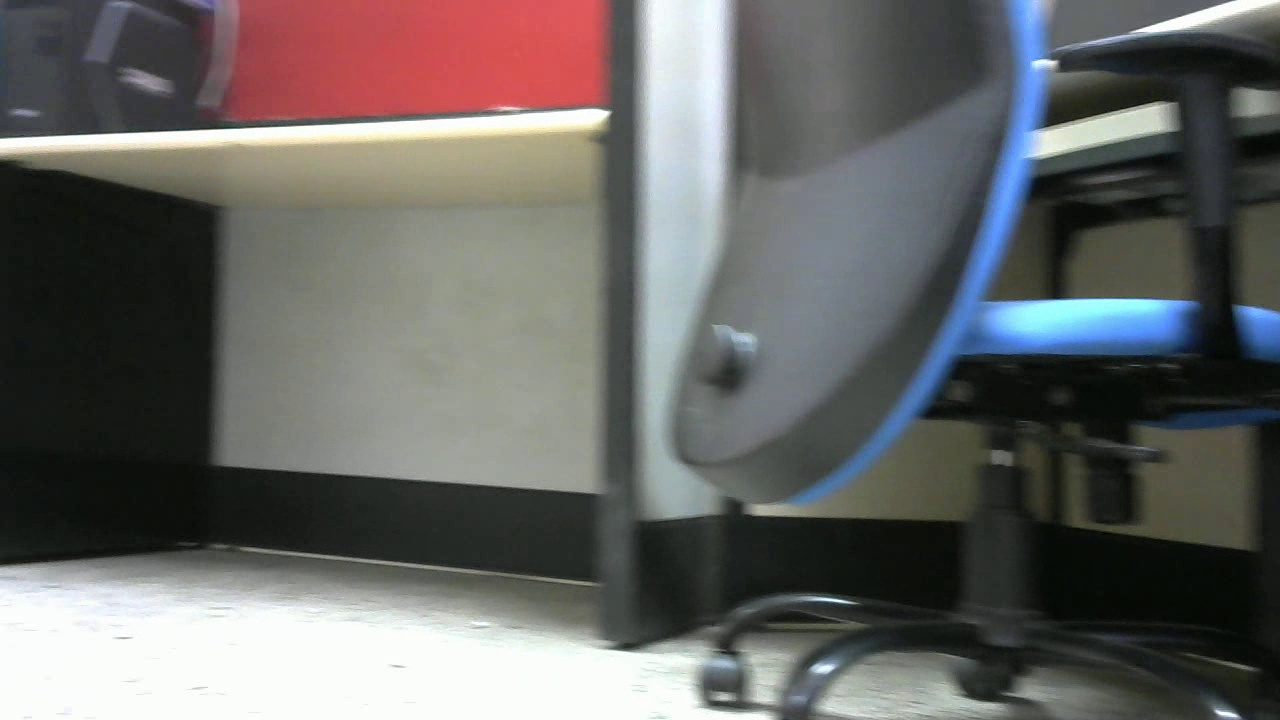chair: (657, 1, 1280, 720)
